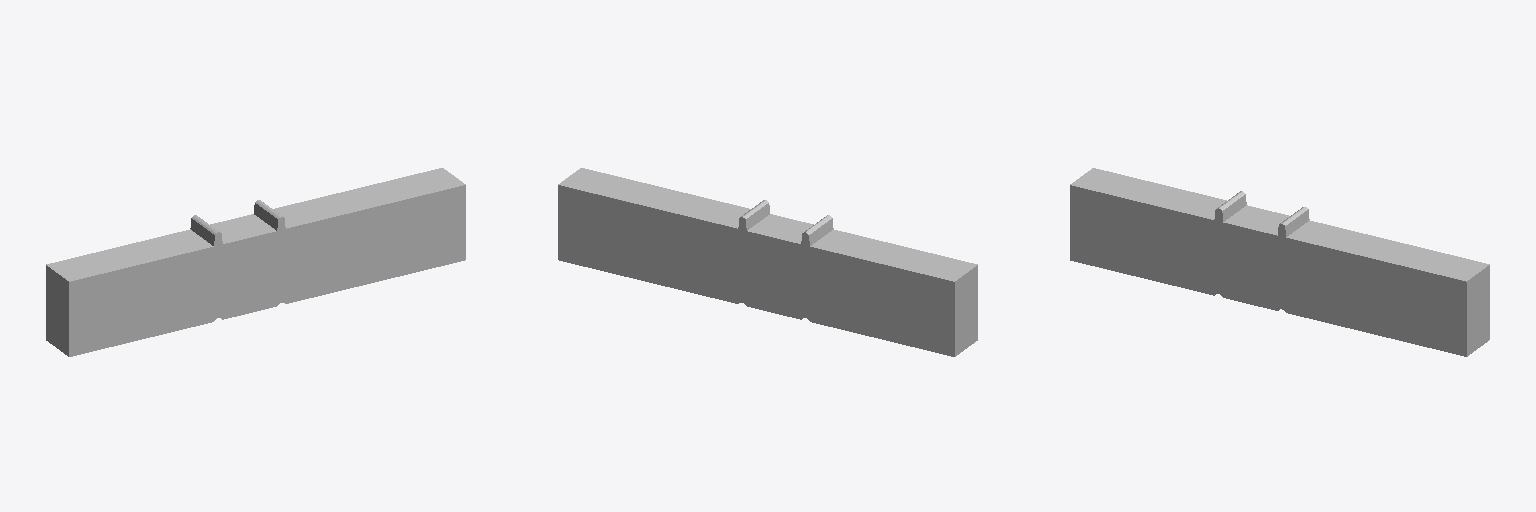
Rendered from road.obj.
3 views of the same model, side by side, from view 1: azimuth 30°, elevation 25°; view 2: azimuth 150°, elevation 25°; view 3: azimuth 330°, elevation 25° (orthographic).
Size of the model in its own units: 11.01 by 2.35 by 1.13.